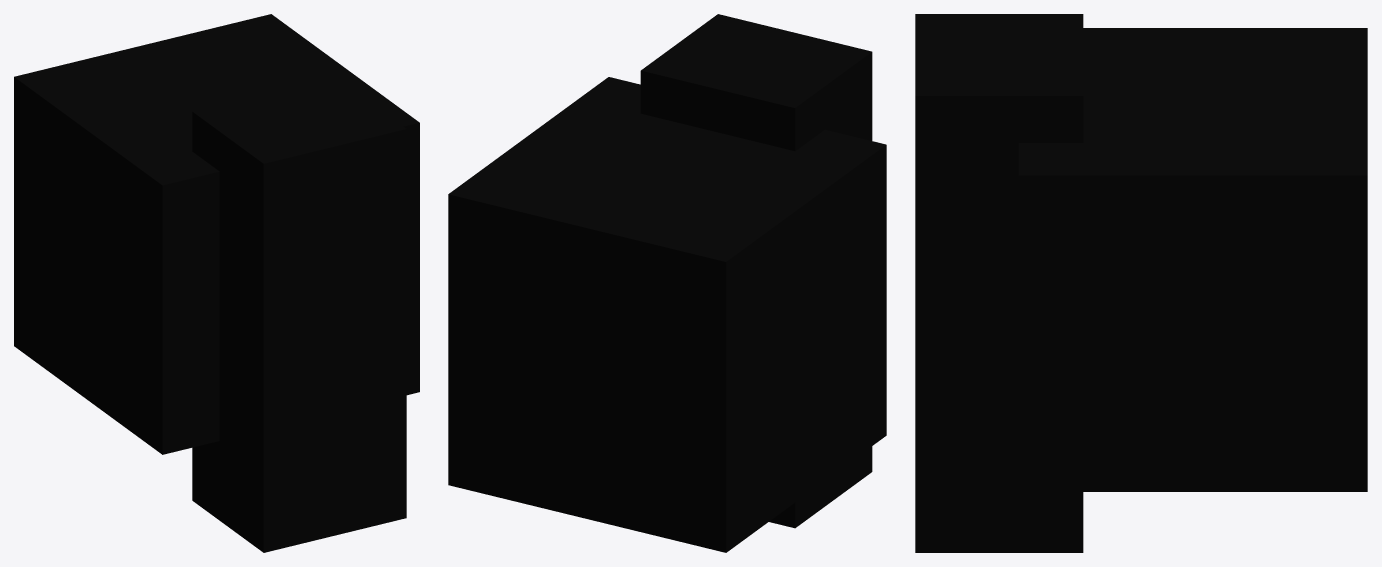
Rendered from hair-0001.gltf.
The picture shows the model from 3 angles, left to right: view 1: azimuth 30°, elevation 25°; view 2: azimuth 150°, elevation 25°; view 3: azimuth 270°, elevation 25°; orthographic projection. The views are drawn at different scales.
Visible parts, largest first — view 1: hair-0001-extra-geo, hair-0001-geo; view 2: hair-0001-geo, hair-0001-extra-geo; view 3: hair-0001-geo, hair-0001-extra-geo.
Part boxes in pixels (box(x1,y1,x2,y2)): hair-0001-extra-geo: box(192, 77, 406, 552); hair-0001-geo: box(14, 14, 419, 454); hair-0001-geo: box(448, 77, 886, 552); hair-0001-extra-geo: box(640, 14, 872, 528); hair-0001-geo: box(1018, 28, 1367, 491); hair-0001-extra-geo: box(915, 14, 1083, 552).
Size of the model in its own units: 0.4219 by 0.6094 by 0.5469.
1 material, 1 textured.
